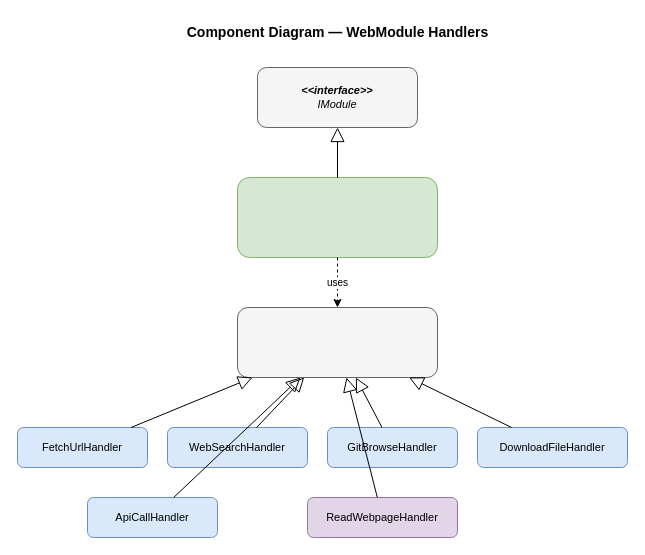
Image size: 645x555. Some labels were removed from this diagram. Here are the shapes that lost their labels. From the top down, the centre of each, then its label:
At (337,217): "WebModule initialize() / shutdown() getToolHandlers() getToolDefinitions()".
At (337,342): "<<interface>> WebToolHandler handle(args): ToolResult".
